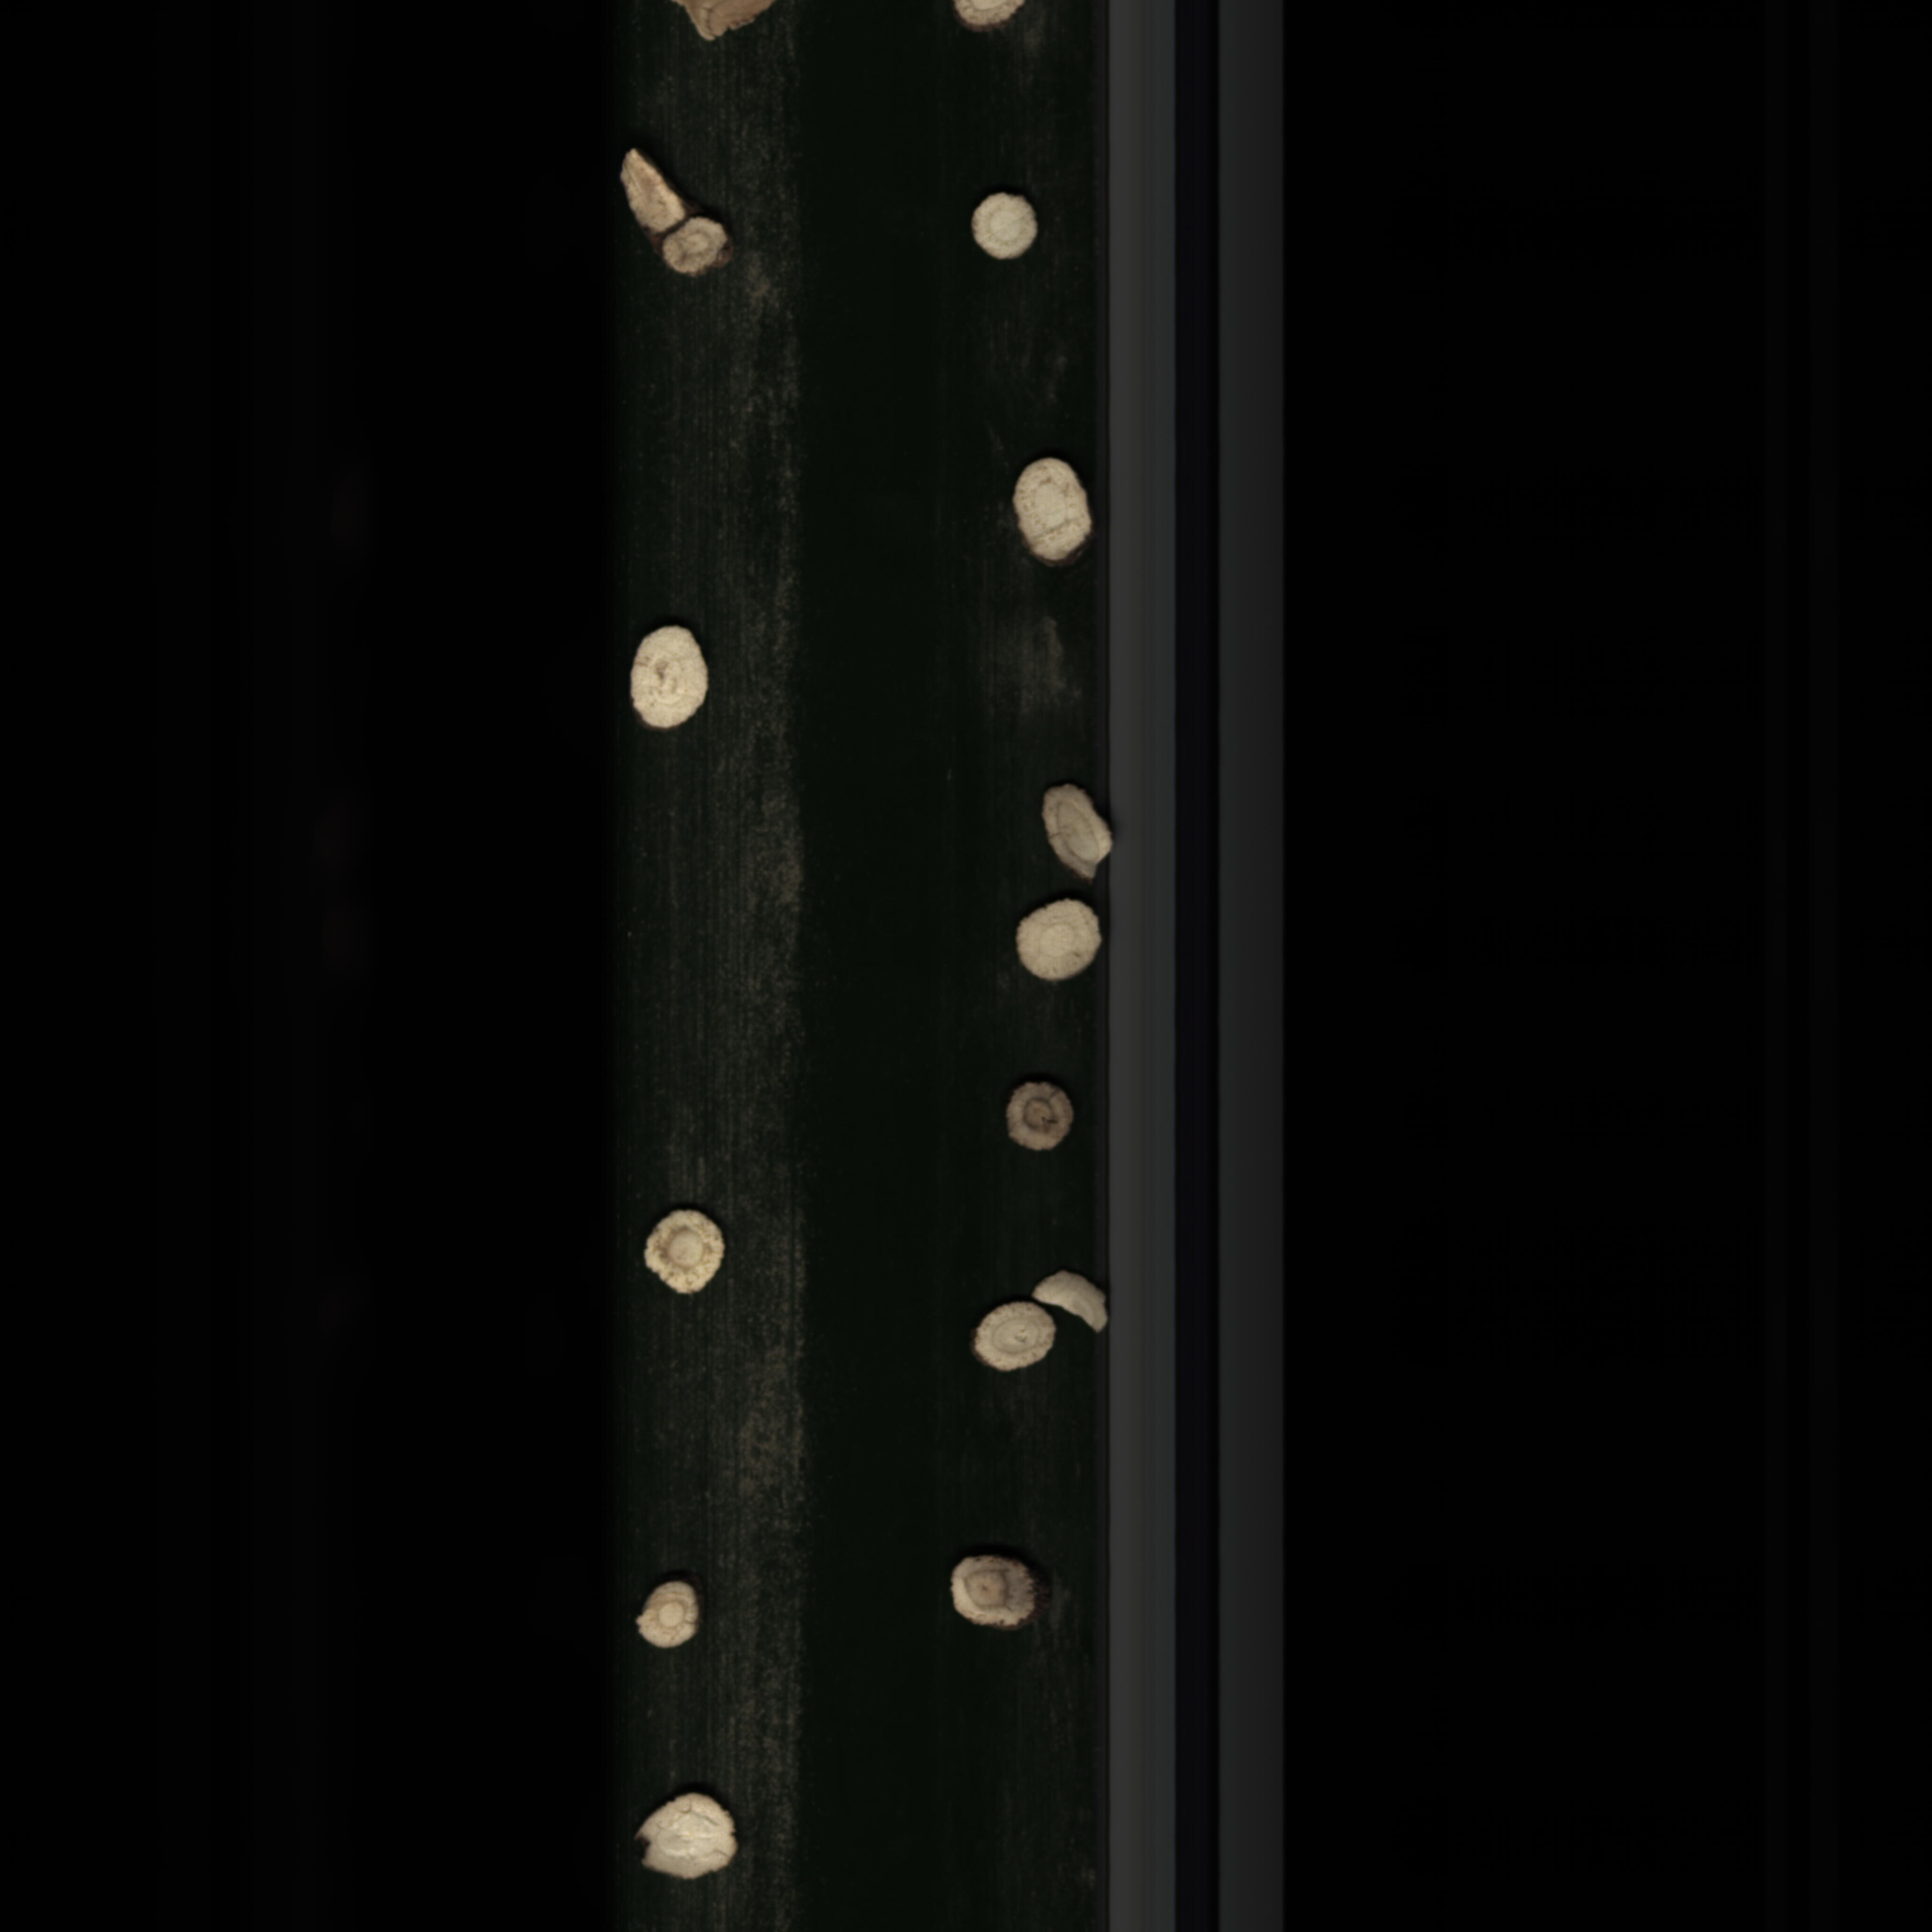bark: (610, 147, 741, 290)
debris: (1030, 1263, 1111, 1336)
moldy: (998, 1077, 1086, 1155)
